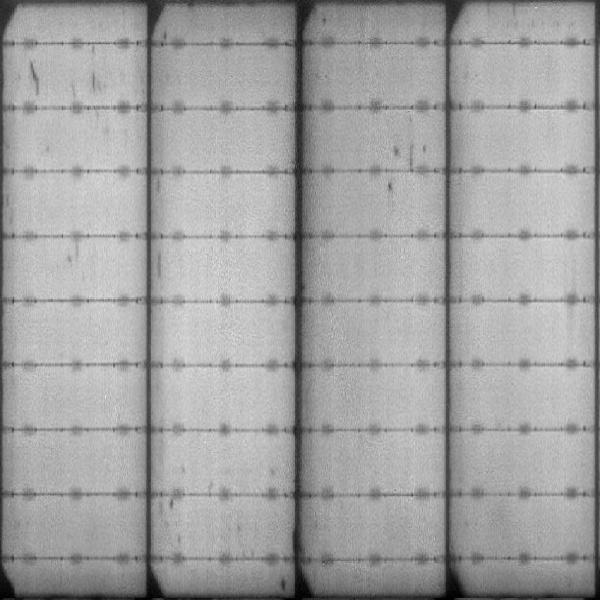scratch: (64, 70, 106, 101), (386, 141, 429, 168), (24, 62, 41, 101)
